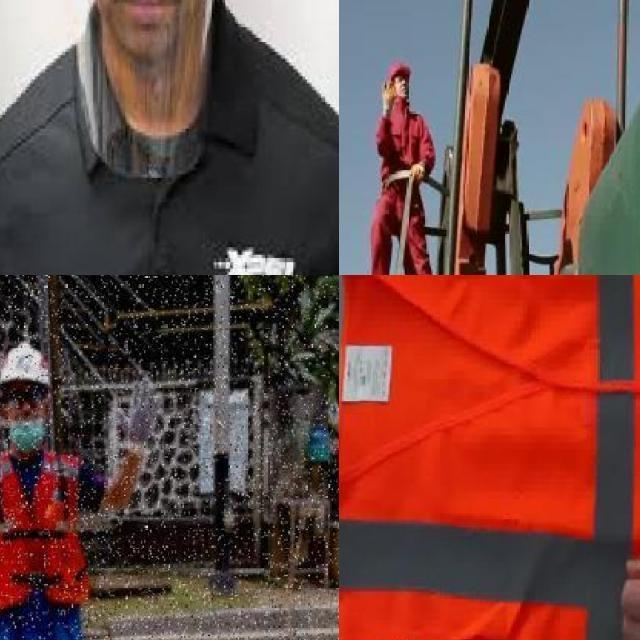apron: (114, 376, 162, 459), (408, 162, 426, 186), (382, 82, 396, 110)
